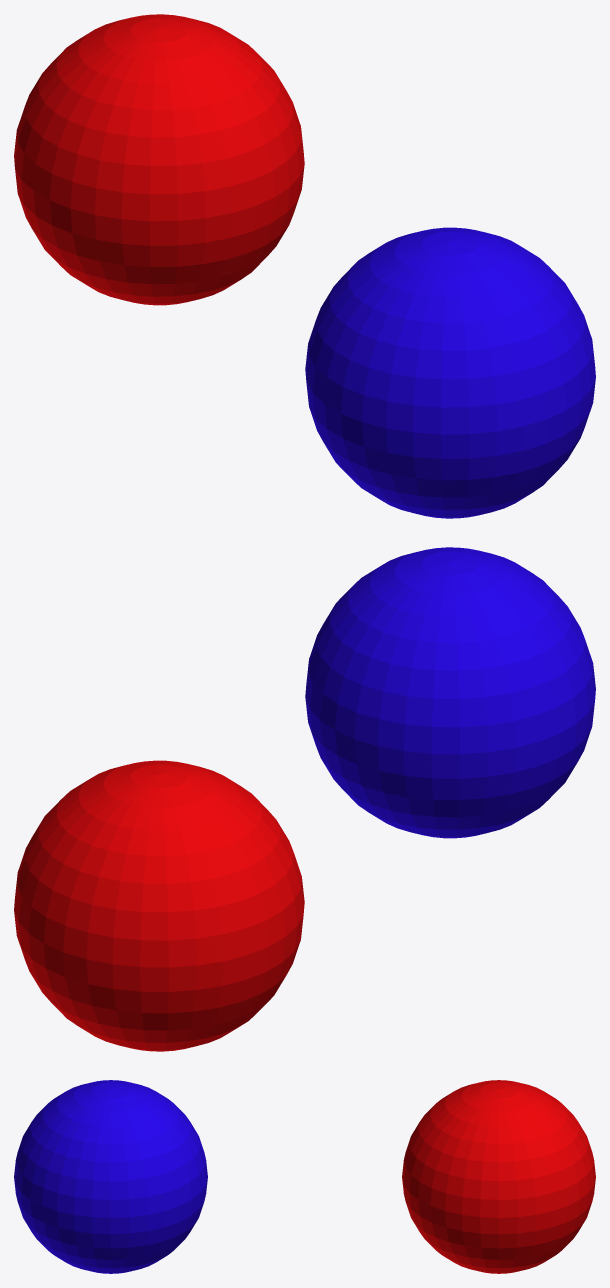
The model's file is spheres.glb.
3 views of the same model, one above another, from view 1: azimuth 30°, elevation 25°; view 2: azimuth 150°, elevation 25°; view 3: azimuth 270°, elevation 25° (orthographic). The views are drawn at different scales.
Visible parts, largest first — view 1: sphere1_mesh, sphere2_mesh; view 2: sphere1_mesh, sphere2_mesh; view 3: sphere1_mesh, sphere2_mesh.
Part boxes in pixels (x1,y1,x2,y2): sphere1_mesh: (14,14,304,305); sphere2_mesh: (305,227,595,518); sphere1_mesh: (14,760,304,1051); sphere2_mesh: (305,547,595,838); sphere1_mesh: (402,1080,595,1273); sphere2_mesh: (14,1080,207,1273).
Size of the model in its own units: 1 by 1 by 3.
